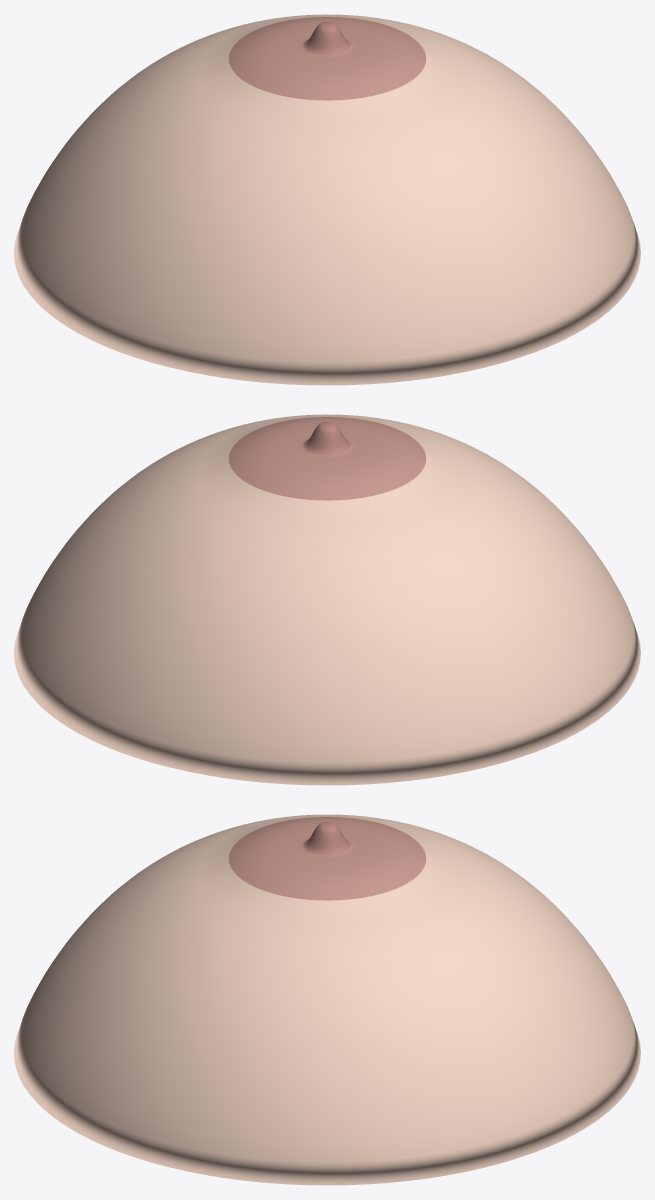
The model's file is bico-comum.glb.
3 renders of one model, top to bottom at view 1: azimuth 30°, elevation 25°; view 2: azimuth 150°, elevation 25°; view 3: azimuth 270°, elevation 25°, orthographic.
Parts seen in each view (by area): view 1: seio; view 2: seio; view 3: seio.
Boxes of the visible parts, x1,y1,x2,y2 form: seio: (14,14,640,385); seio: (14,414,640,785); seio: (14,814,640,1185).
Size of the model in its own units: 0.12 by 0.0483 by 0.12.
